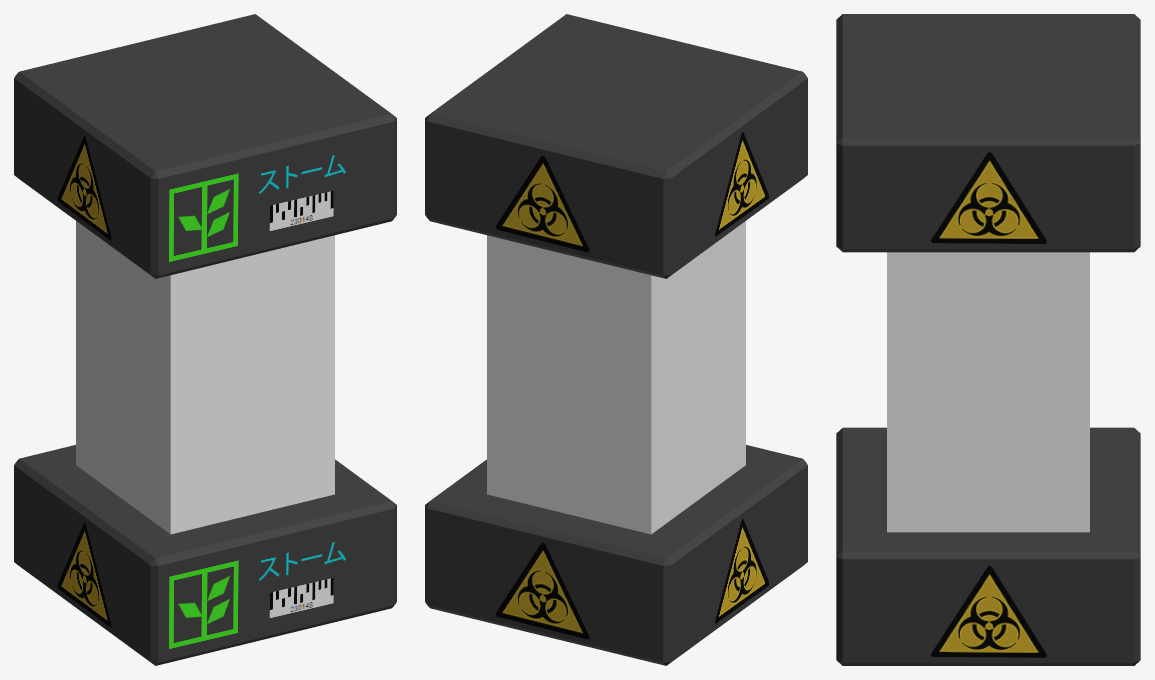
Rendered from Item_BioWeapon1.fbx.
3 views of the same model, side by side, from view 1: azimuth 30°, elevation 25°; view 2: azimuth 150°, elevation 25°; view 3: azimuth 270°, elevation 25° (orthographic). The views are drawn at different scales.
Visible parts, largest first — view 1: pCube5; view 2: pCube5; view 3: pCube5.
Part boxes in pixels (x1,y1,x2,y2): pCube5: (14,14,396,665); pCube5: (425,14,807,665); pCube5: (836,14,1140,665).
Bounding box in the file's own units: 90 × 172 × 90.
2 materials, 1 textured.
